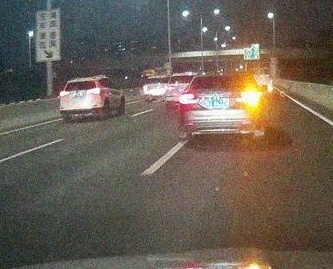L_light: (178, 92, 199, 104), (60, 90, 70, 97)
R_light: (240, 92, 262, 104), (91, 88, 102, 95)
T_light: (216, 74, 230, 79), (78, 80, 86, 83)
night-no: (59, 77, 104, 121)
night-right: (178, 71, 264, 145)
